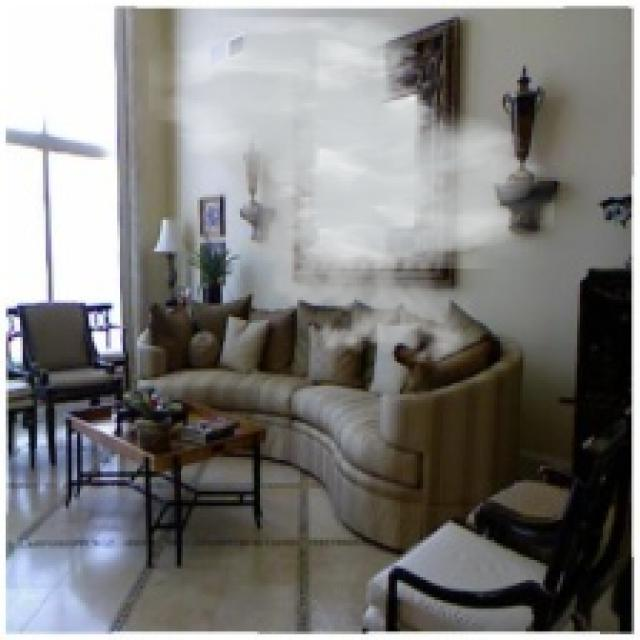Smoke: (148, 17, 554, 374)
